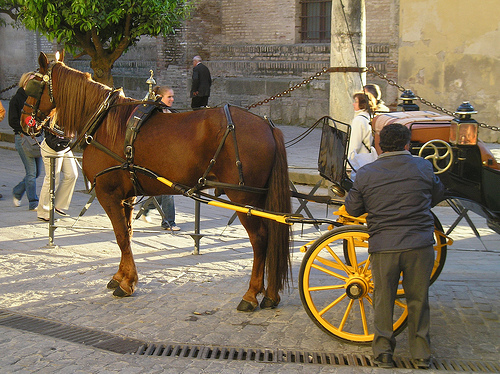horse: (12, 50, 294, 316)
